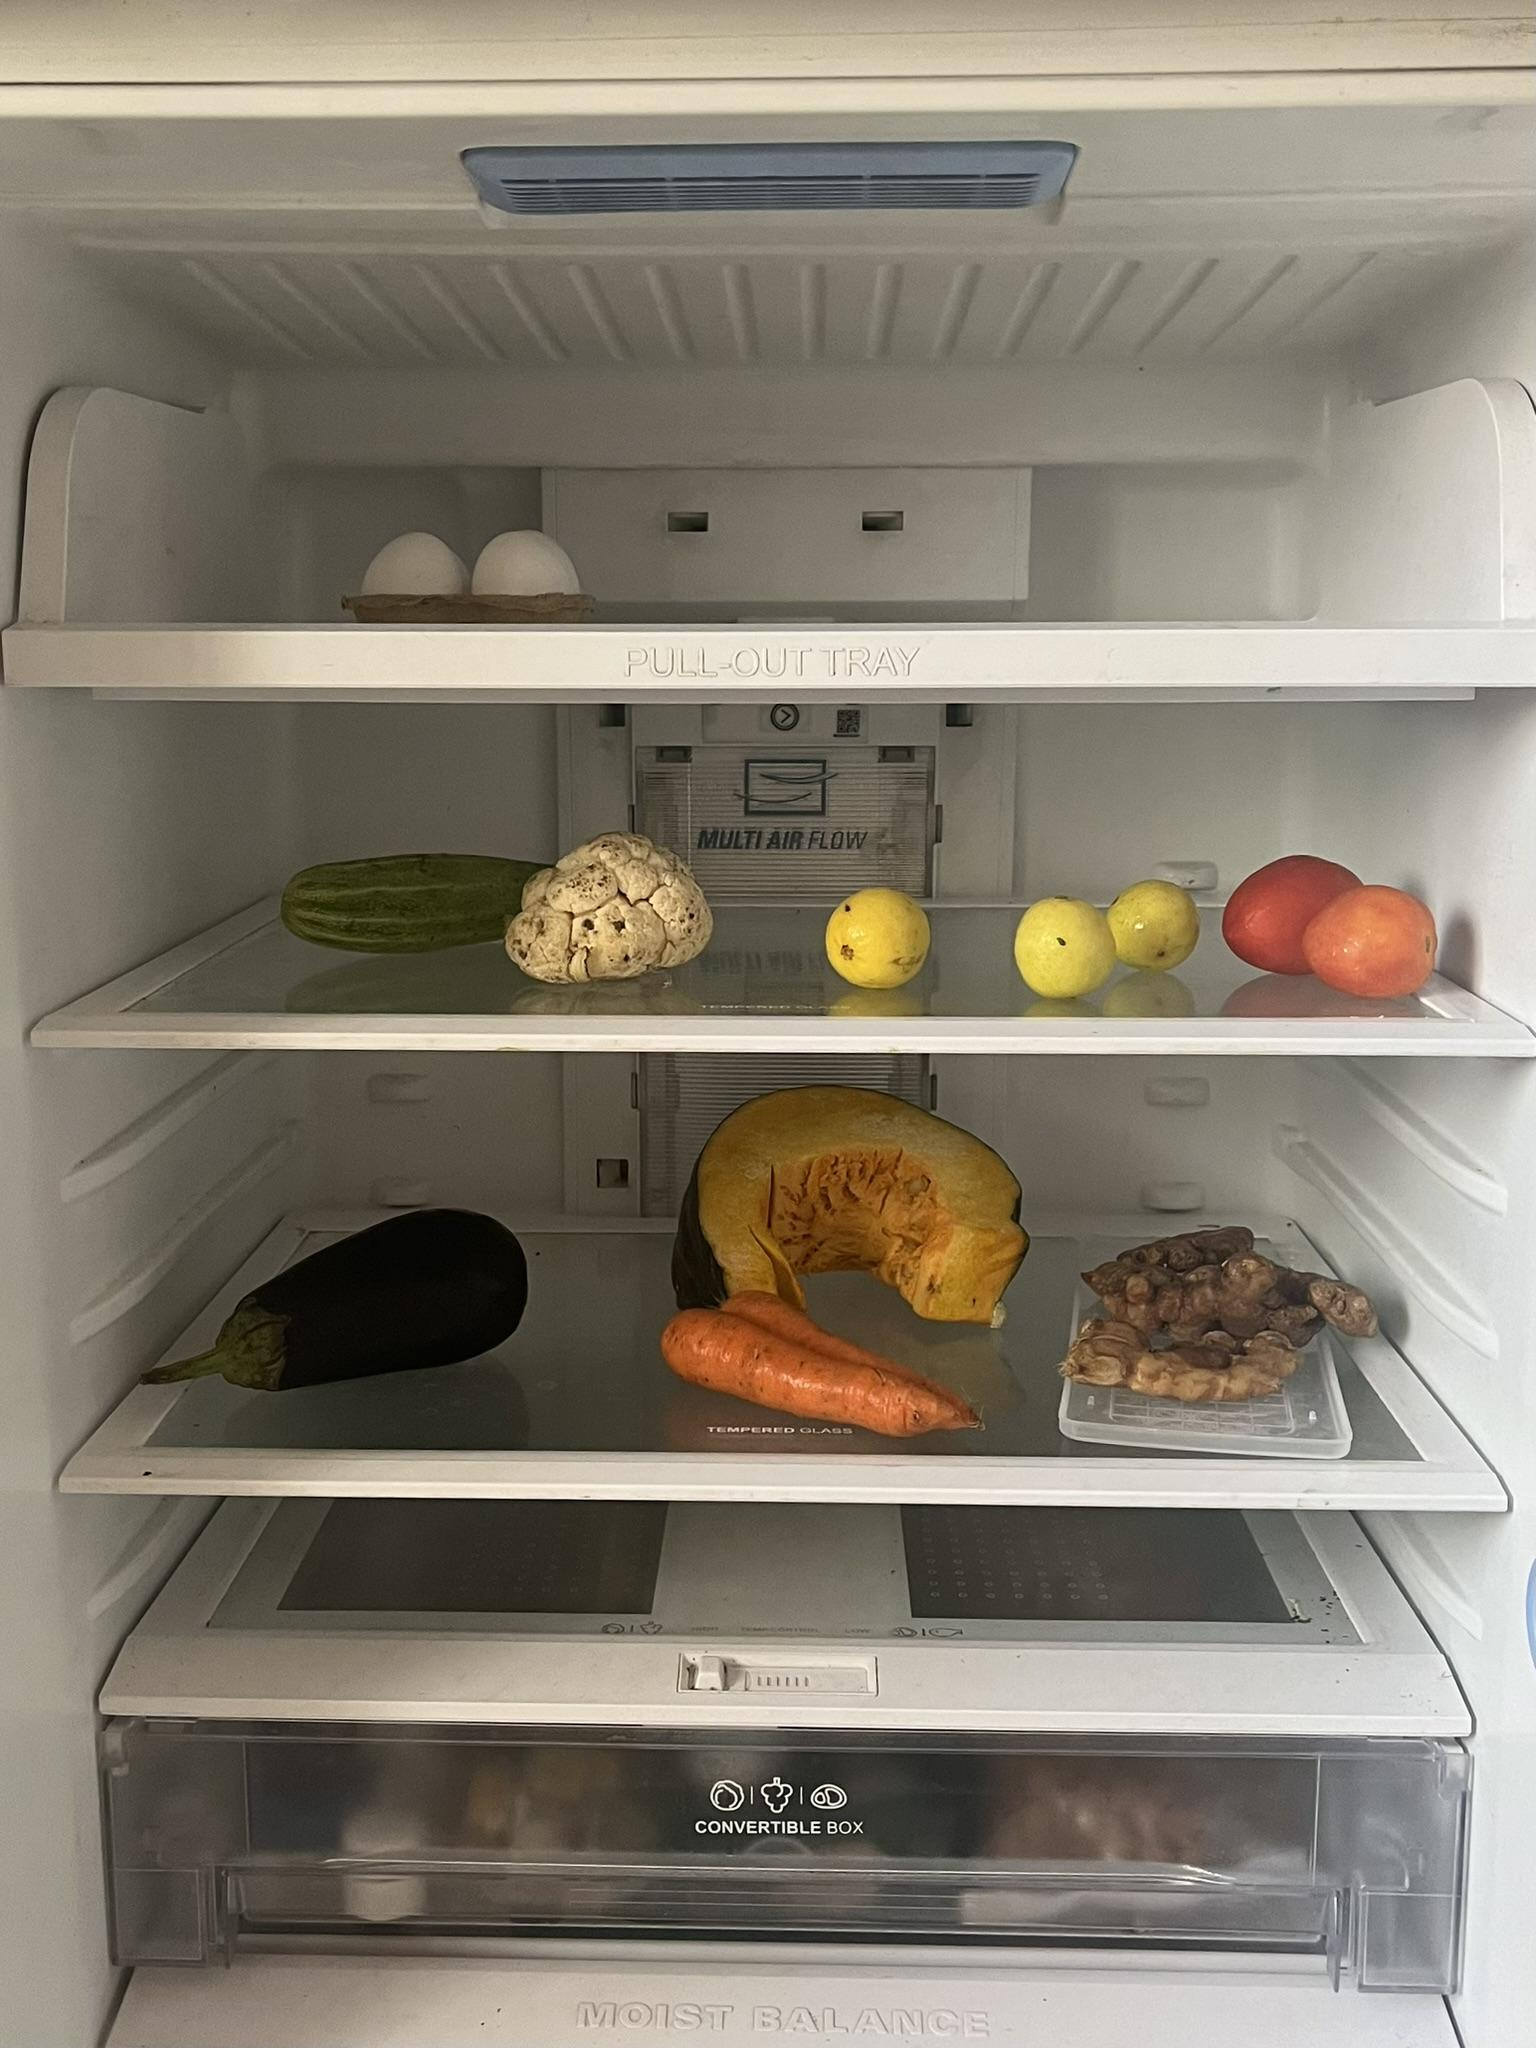bringal: (137, 1192, 542, 1390)
carrots: (657, 1282, 975, 1426)
cauliflower: (521, 832, 715, 972)
cucumber: (271, 847, 568, 939)
egg: (366, 527, 591, 622)
ginger: (1071, 1216, 1381, 1393)
lemon: (1015, 884, 1204, 982), (821, 882, 928, 985)
pumpkin: (668, 1082, 1031, 1319)
tomato: (1217, 842, 1441, 1006)
